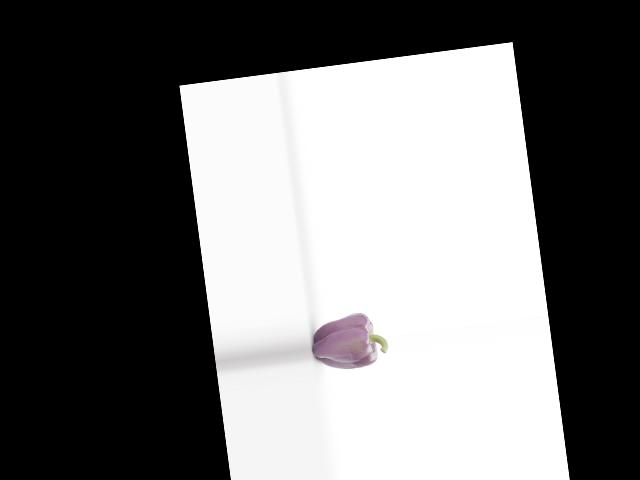bell_pepper: (309, 305, 390, 379)
